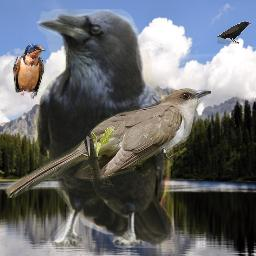Crow: (34, 9, 174, 248), (217, 21, 251, 44)
Cuckoo: (4, 87, 211, 198)
Swallow: (13, 43, 46, 99)
